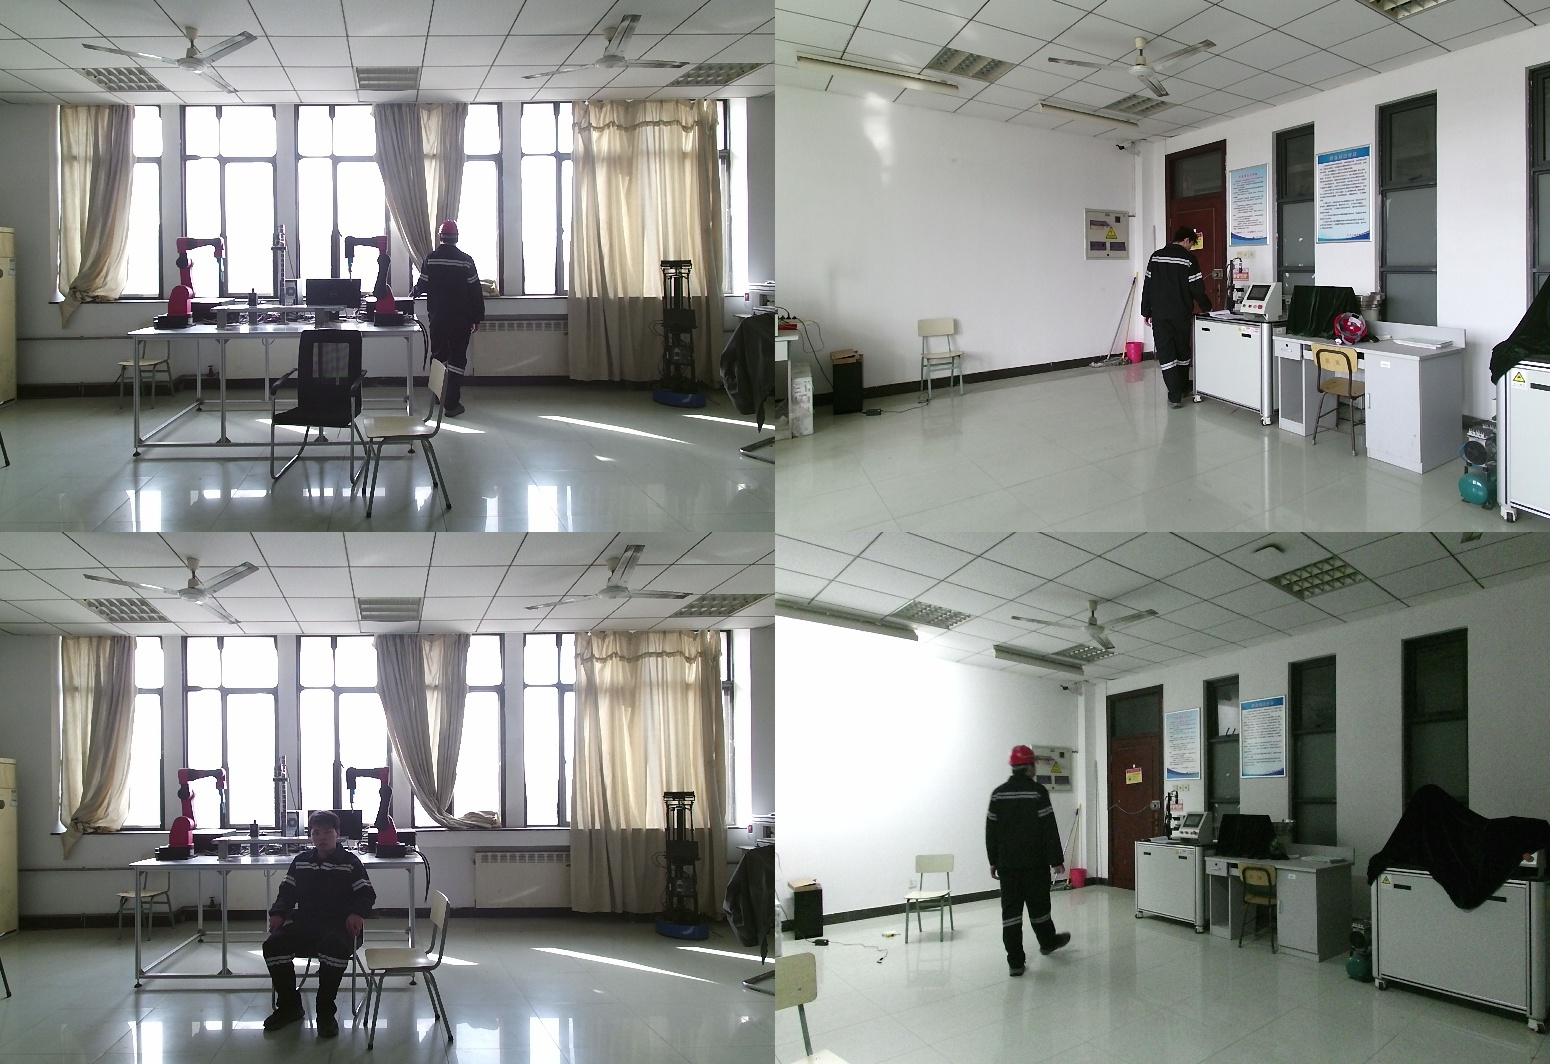person: (261, 812, 383, 1030), (976, 744, 1073, 979), (410, 222, 487, 423), (1142, 233, 1220, 418)
